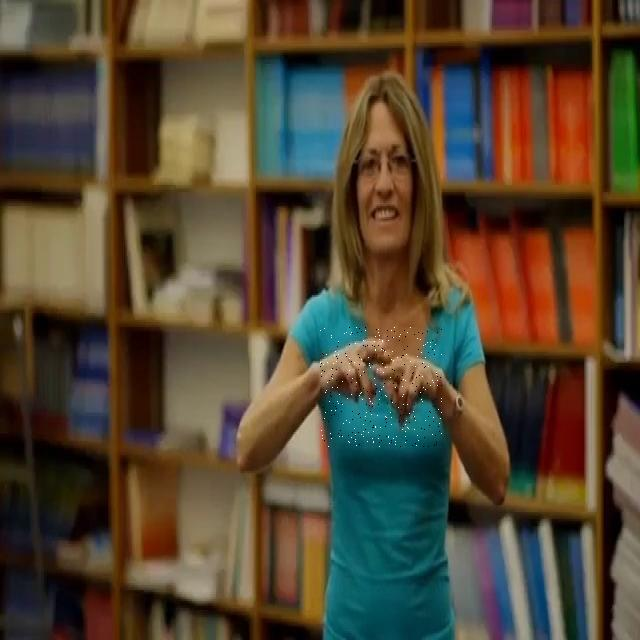salt: (320, 328, 442, 448)
